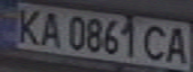0: (63, 12, 87, 52)
1: (118, 19, 142, 58)
6: (103, 16, 124, 56)
8: (84, 15, 106, 54)
A: (160, 24, 193, 65), (33, 8, 66, 47)
C: (139, 23, 172, 62)
K: (12, 4, 48, 45)
